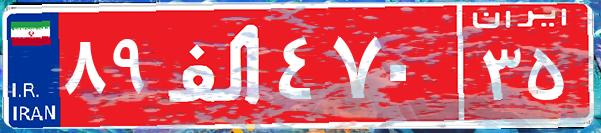0: (385, 28, 445, 110)
3: (475, 38, 525, 113)
4: (273, 28, 330, 110)
5: (525, 38, 570, 115)
7: (330, 28, 385, 110)
8: (57, 26, 110, 107)
9: (110, 28, 158, 105)
الف: (158, 15, 273, 115)
